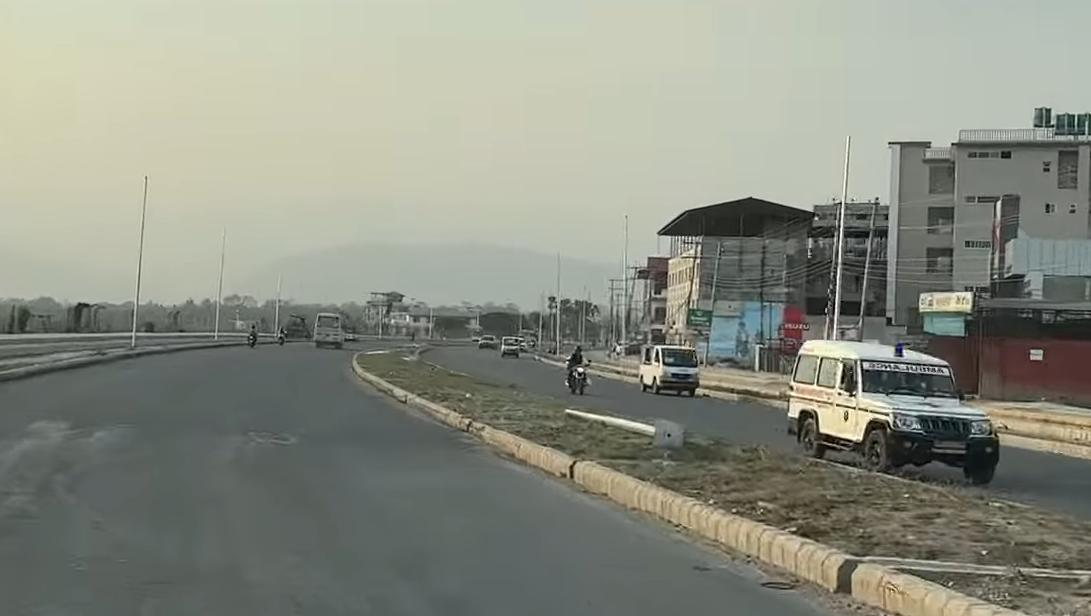ambulance: (782, 335, 1002, 483)
van: (638, 340, 706, 403)
